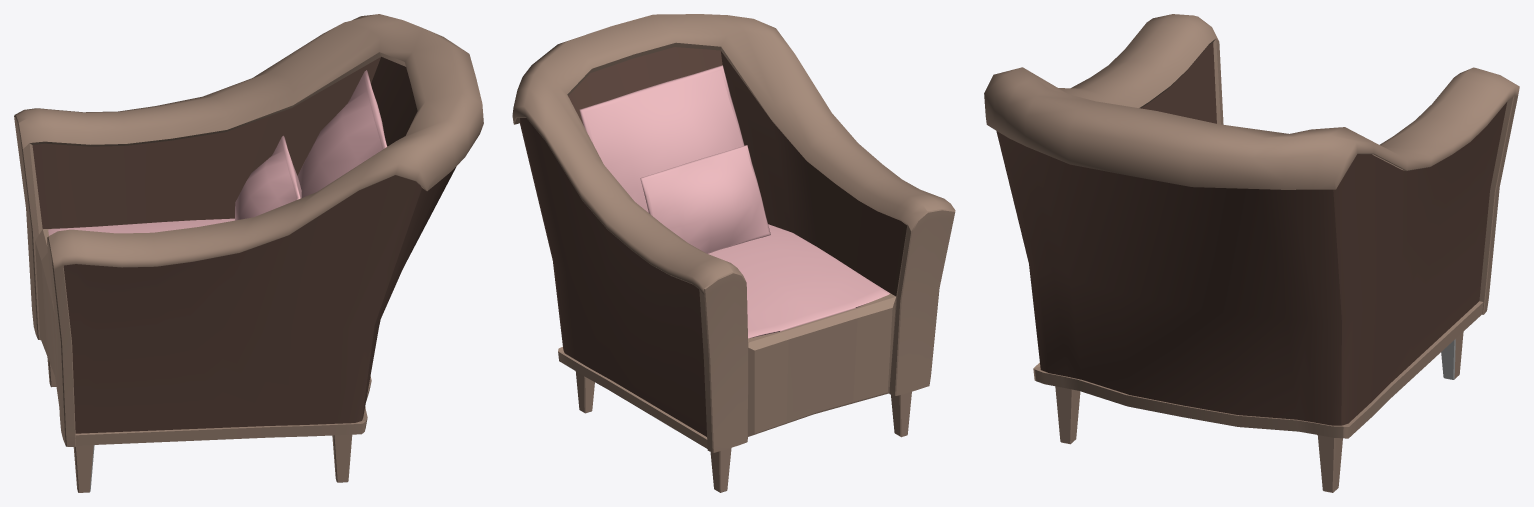
File: wChair_hp.fbx
3 renders of one model, left to right at view 1: azimuth 30°, elevation 25°; view 2: azimuth 150°, elevation 25°; view 3: azimuth 270°, elevation 25°, orthographic. The views are drawn at different scales.
Parts seen in each view (by area): view 1: whickerChair1_hp; view 2: whickerChair1_hp; view 3: whickerChair1_hp.
Part boxes in pixels (box(x1,y1,x2,y2)): whickerChair1_hp: box(14, 14, 483, 492); whickerChair1_hp: box(512, 14, 955, 492); whickerChair1_hp: box(984, 14, 1519, 492).
Bounding box in the file's own units: 1.18 × 0.9253 × 1.12.
